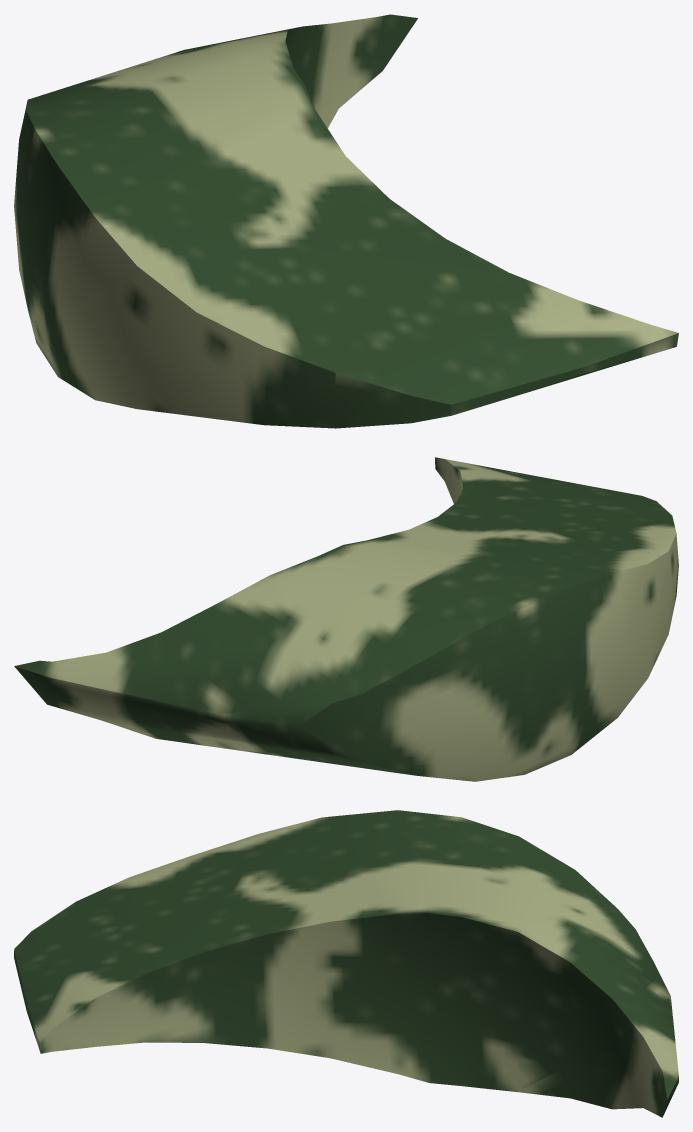
File: link_body_29.obj
3 views of the same model, one above another, from view 1: azimuth 30°, elevation 25°; view 2: azimuth 150°, elevation 25°; view 3: azimuth 270°, elevation 25° (orthographic). The views are drawn at different scales.
Parts seen in each view (by area): view 1: link_body_29; view 2: link_body_29; view 3: link_body_29.
Part boxes in pixels (bbox=[...]): link_body_29: bbox=[14, 14, 678, 428]; link_body_29: bbox=[14, 457, 678, 781]; link_body_29: bbox=[14, 810, 678, 1117].
Size of the model in its own units: 8.84 by 3.28 by 11.63.
